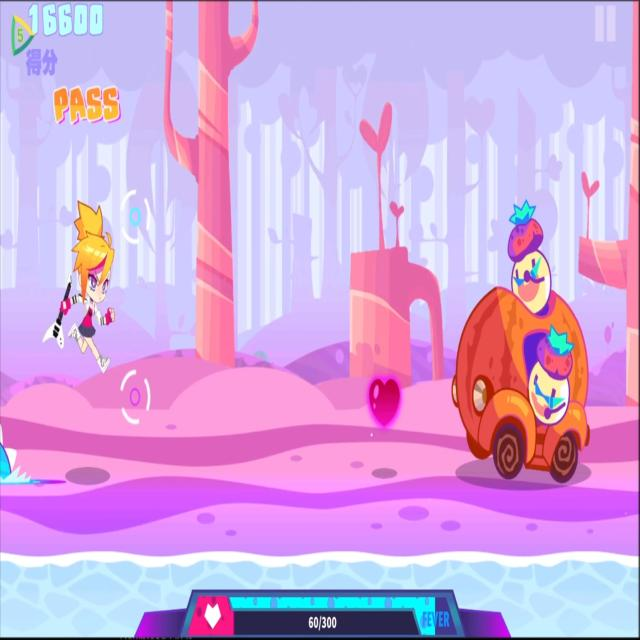cheboss: (449, 193, 596, 494)
xin: (365, 362, 407, 448)
